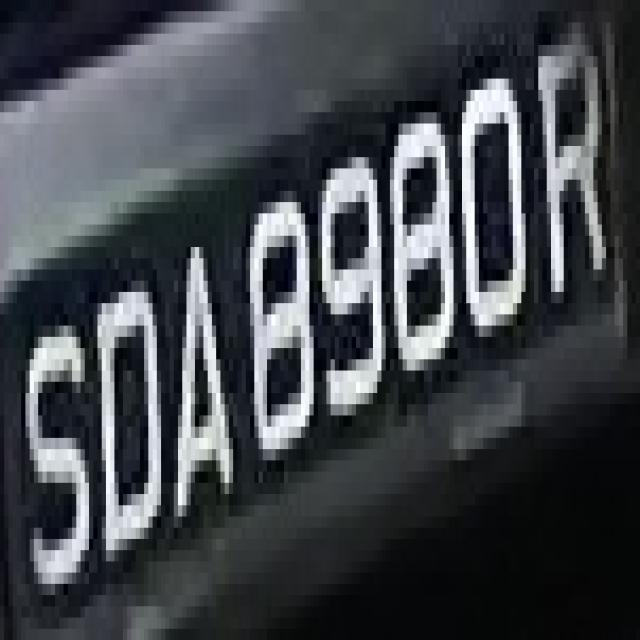0: (454, 67, 534, 370)
8: (233, 157, 318, 483), (382, 101, 454, 404)
9: (305, 123, 394, 460)
A: (161, 214, 250, 550)
D: (84, 269, 170, 562)
R: (534, 22, 606, 337)
S: (13, 292, 93, 606)
